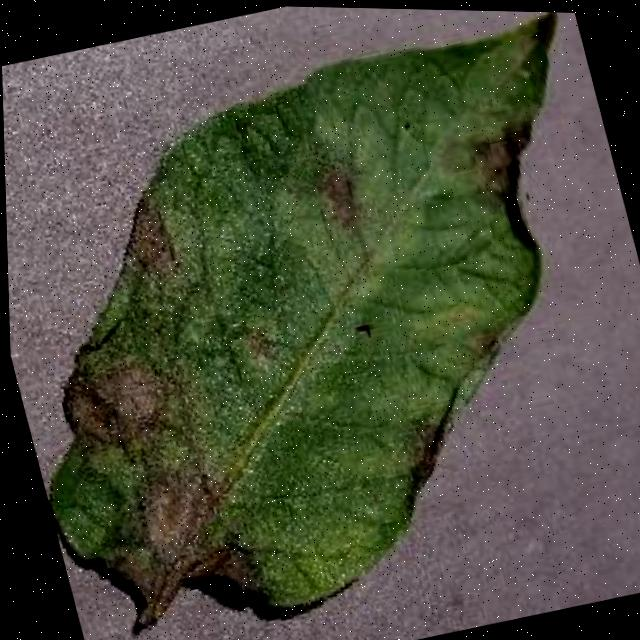Late_blight: (94, 446, 294, 627), (41, 330, 215, 478), (458, 99, 568, 259), (297, 143, 388, 270), (99, 184, 198, 300)
